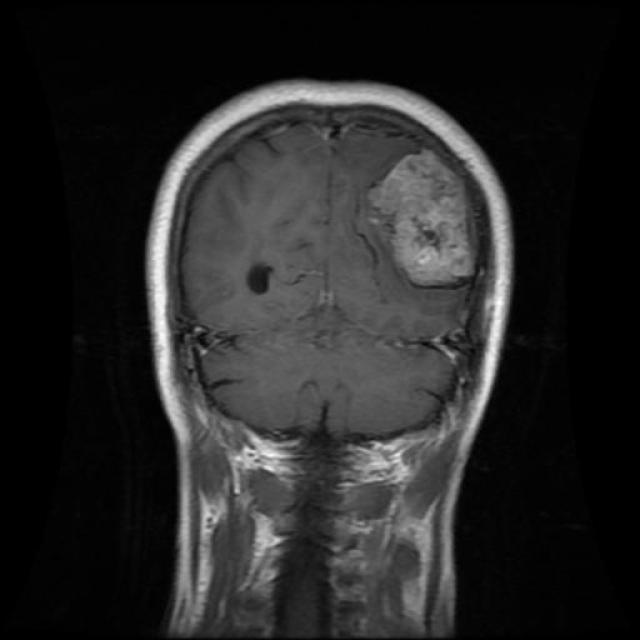meningioma: (375, 150, 474, 286)
